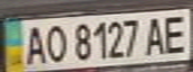1: (90, 18, 109, 60)
2: (106, 17, 127, 59)
7: (121, 16, 145, 57)
8: (69, 20, 93, 61)
A: (142, 14, 172, 56), (21, 22, 48, 65)
E: (160, 11, 193, 55)
O: (42, 21, 69, 64)
